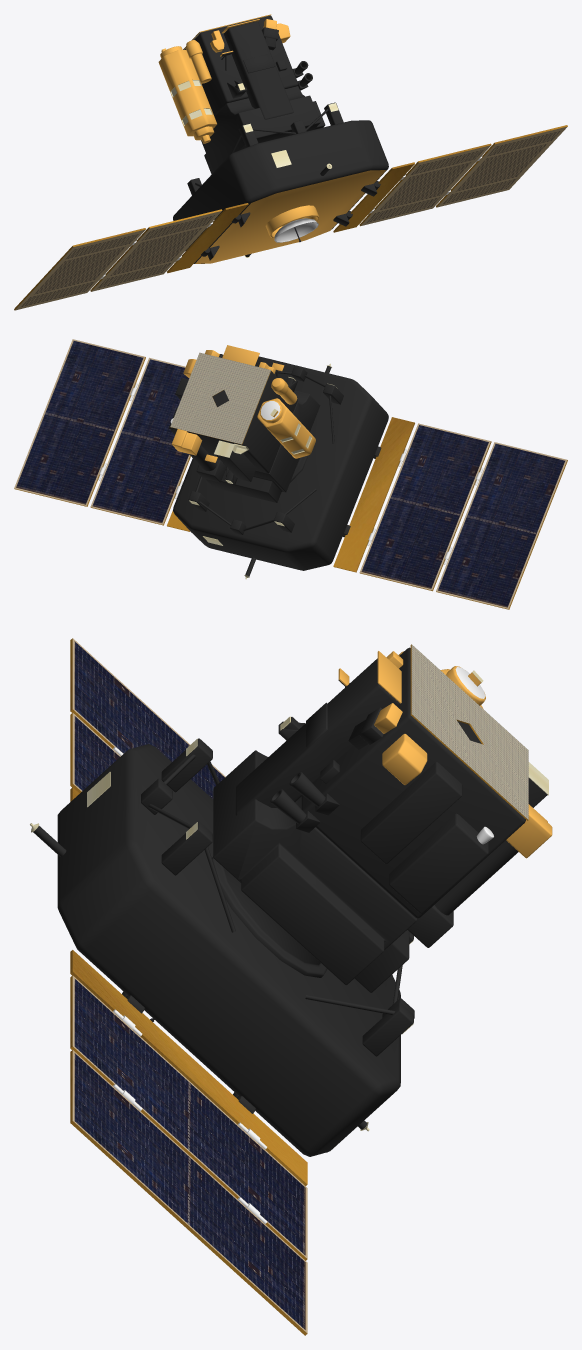
File: soho.glb
3 renders of one model, top to bottom at view 1: azimuth 30°, elevation 25°; view 2: azimuth 150°, elevation 25°; view 3: azimuth 270°, elevation 25°, orthographic. The views are drawn at different scales.
Visible parts, largest first — view 1: BUS_black_krinkle, solar_cells, foil_cylinder, orange_array_thing, gold_foil, dish, array_black_krinkle, brass; view 2: solar_cells, BUS_black_krinkle, top_thing, orange_array_thing, gold_foil, foil_cylinder, brass, array_hinges; view 3: BUS_black_krinkle, solar_cells, top_thing, orange_array_thing, gold_foil, brass.
Part boxes in pixels (box(x1,y1,x2,y2)): BUS_black_krinkle: box(173, 16, 388, 263); solar_cells: box(14, 125, 567, 310); foil_cylinder: box(158, 46, 216, 143); orange_array_thing: box(167, 162, 414, 273); gold_foil: box(161, 19, 319, 238); dish: box(274, 218, 318, 242); array_black_krinkle: box(201, 181, 380, 260); brass: box(161, 48, 338, 257); solar_cells: box(14, 339, 567, 609); BUS_black_krinkle: box(169, 354, 388, 576); top_thing: box(170, 352, 271, 444); orange_array_thing: box(167, 417, 414, 572); gold_foil: box(171, 345, 297, 462); foil_cylinder: box(257, 398, 315, 458); brass: box(189, 363, 337, 579); array_hinges: box(98, 383, 483, 564); BUS_black_krinkle: box(33, 647, 547, 1156); solar_cells: box(70, 638, 307, 1335); top_thing: box(410, 644, 528, 820); orange_array_thing: box(70, 787, 307, 1185); gold_foil: box(338, 651, 552, 858); brass: box(30, 670, 548, 1131).
Bounding box in the file's own units: 100 × 44.89 × 45.74.
7 materials, 4 textured.
